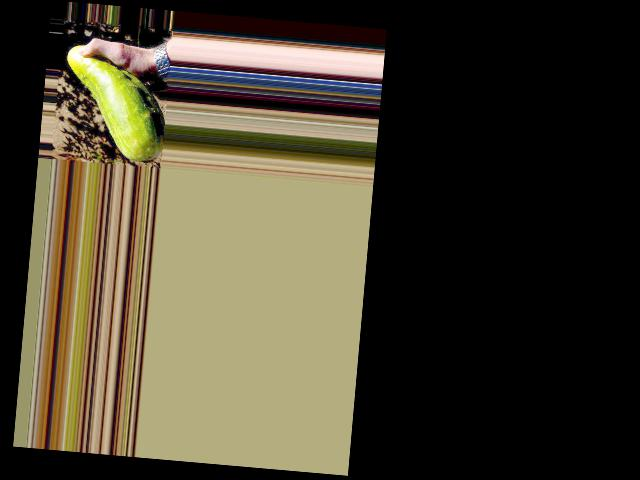cucumber: (59, 44, 172, 164)
